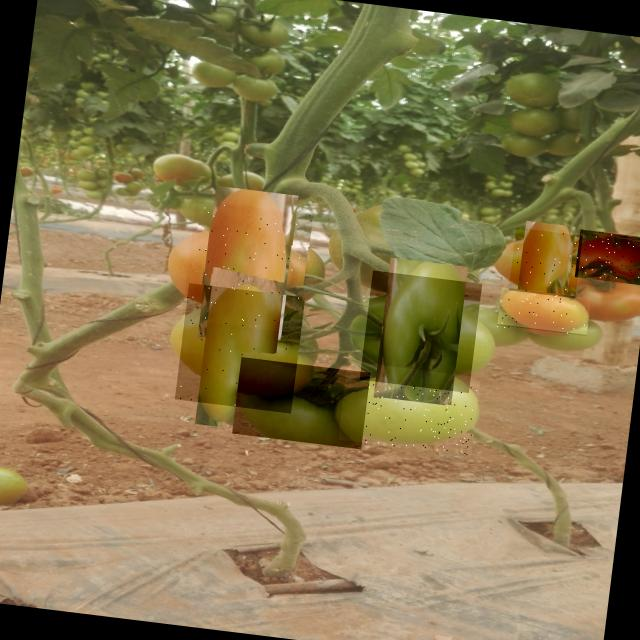Ripe Tomato: (574, 229, 640, 286)
Unripe Tomato: (181, 200, 313, 333), (174, 283, 304, 413), (359, 270, 482, 393), (338, 360, 481, 456), (232, 357, 370, 449), (508, 227, 582, 302), (496, 287, 590, 338)
